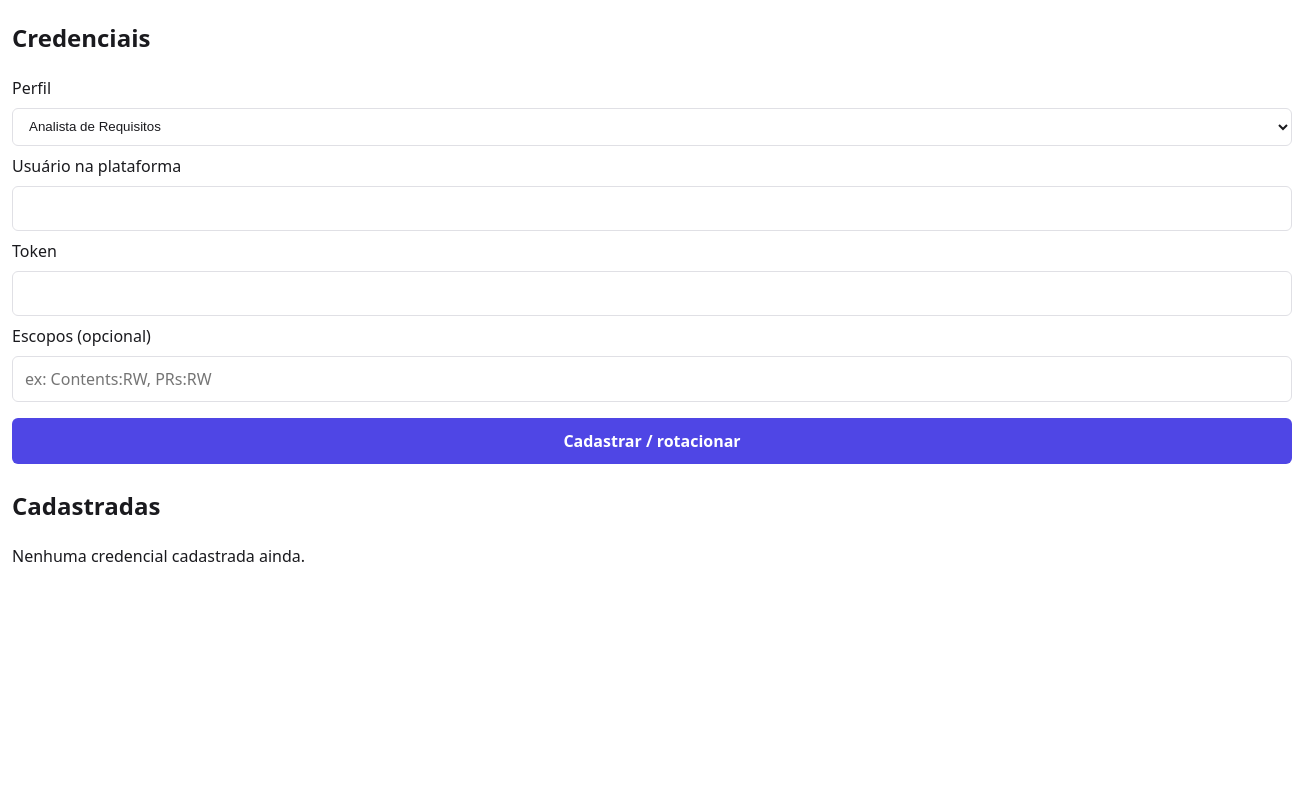
CredentialsPage › shows validation errors returned by the backend (422) without clearing the form
Expected: the text "Nenhuma credencial cadastrada ainda." is shown, [12, 545, 305, 567]
In the field labelled "Usuário na plataforma": (652, 209) [12, 186, 1292, 231], type "recolocarme-web"
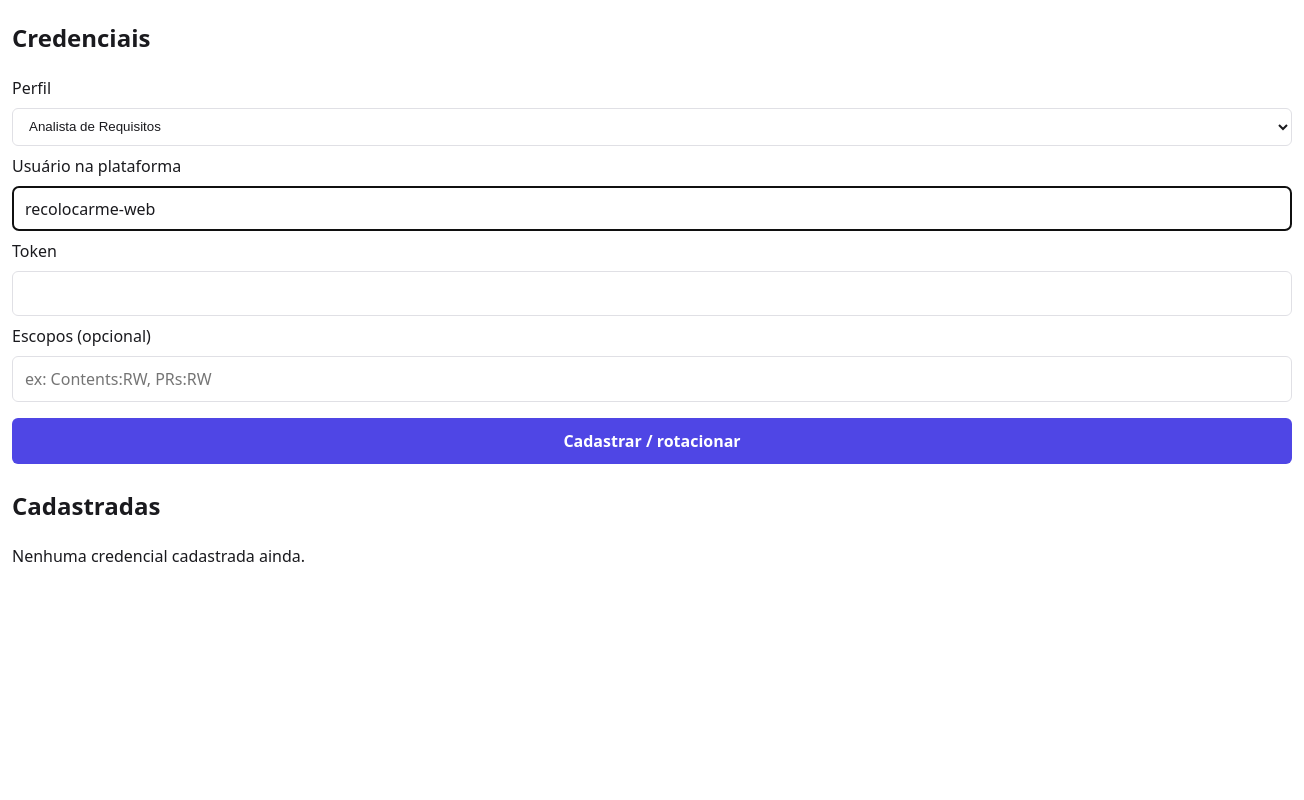
In the password field labelled "Token": (652, 294) [12, 271, 1292, 316], type "super-secret-token"
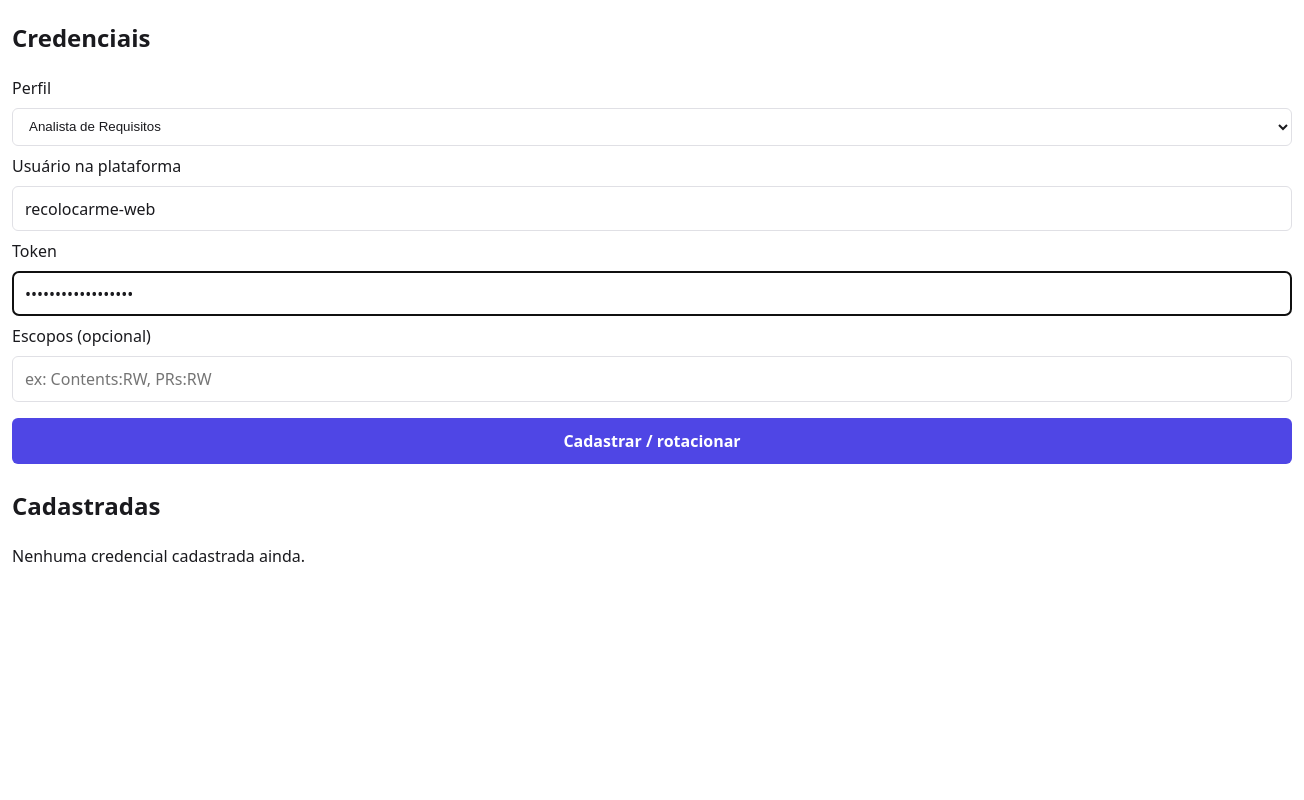
Click the button "Cadastrar / rotacionar": (652, 441) [12, 418, 1292, 464]
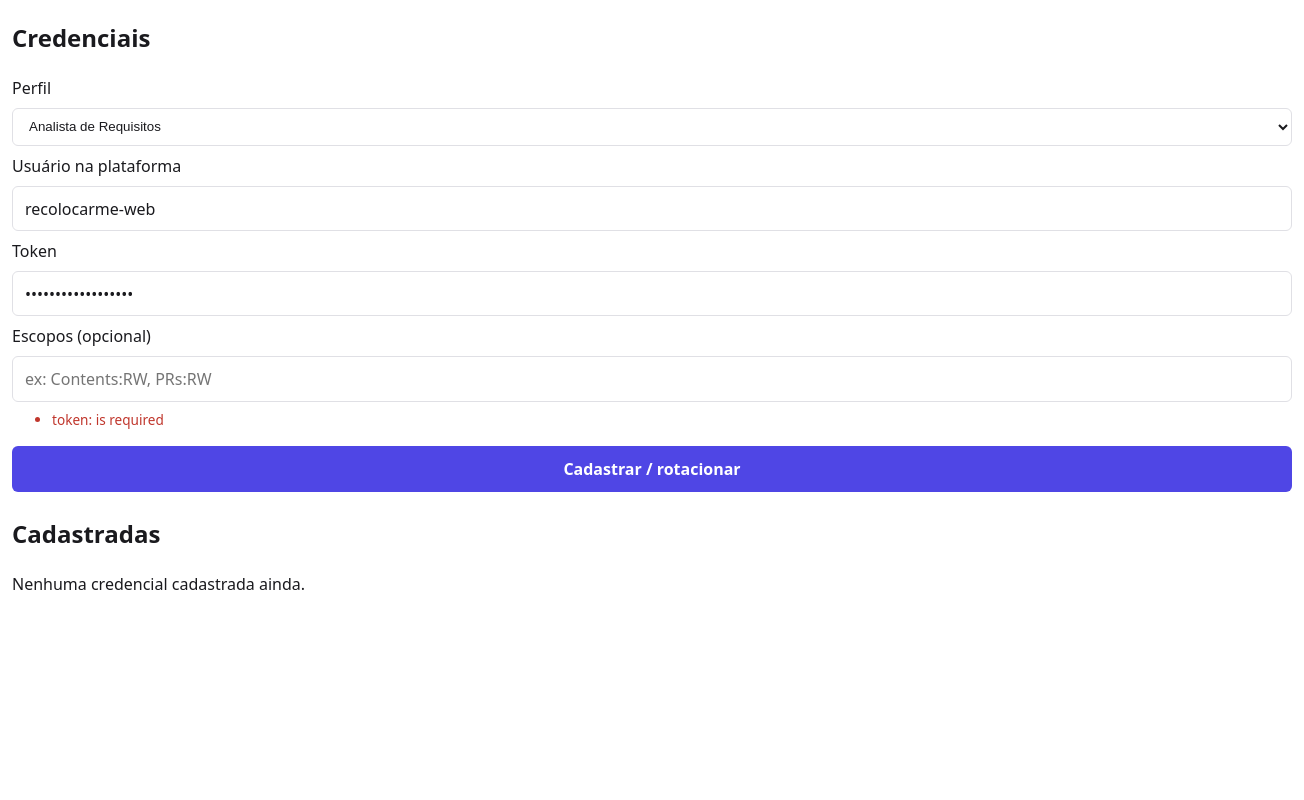
Now the list item "token: is required" is shown, box [52, 410, 164, 429]
